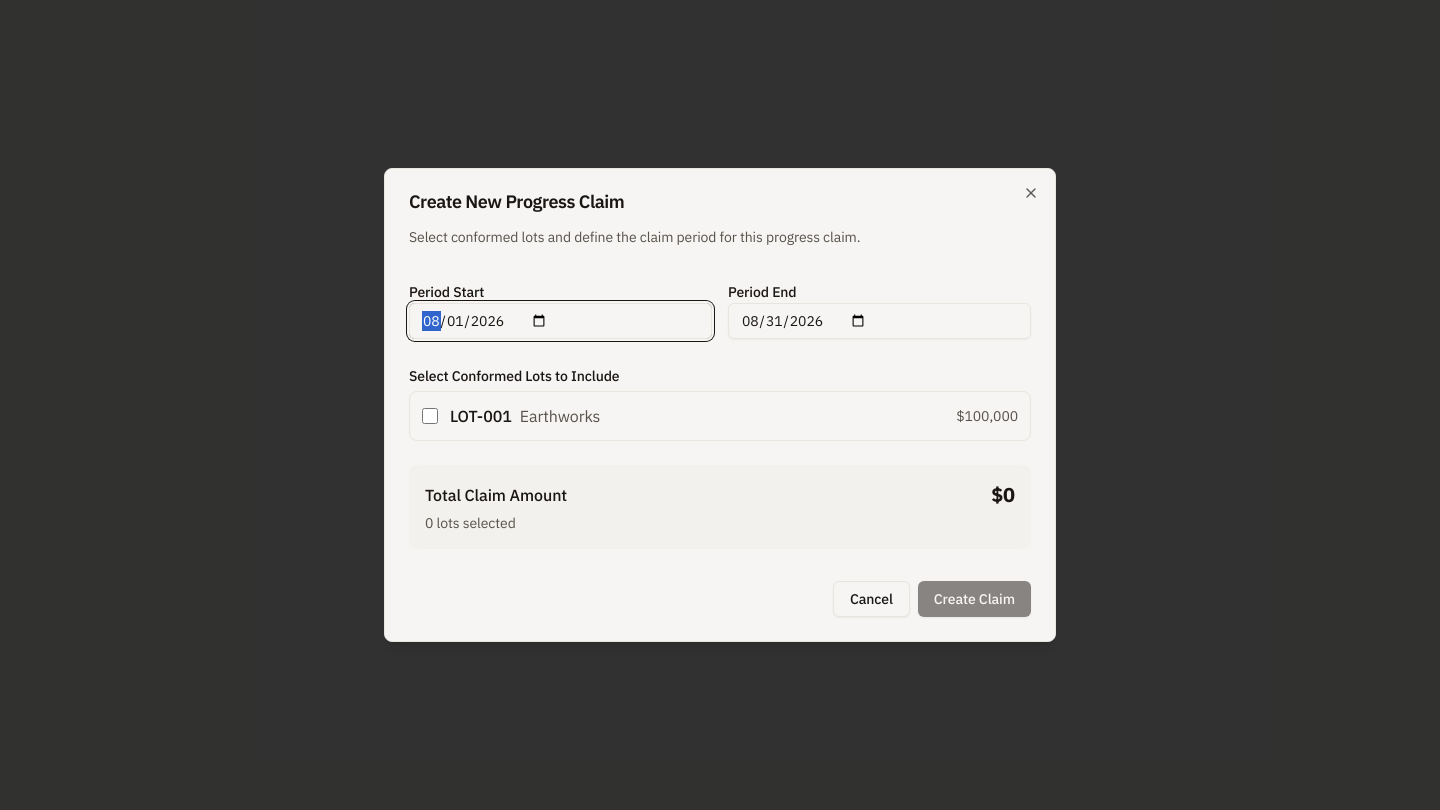
it: CreateClaimModal claim period validation › requires both period dates before a claim can be created
Expected: the text "LOT-001" is shown, [450, 406, 512, 426]
Click the checkbox named "Select LOT-001" at (430, 416), box [422, 408, 438, 424]
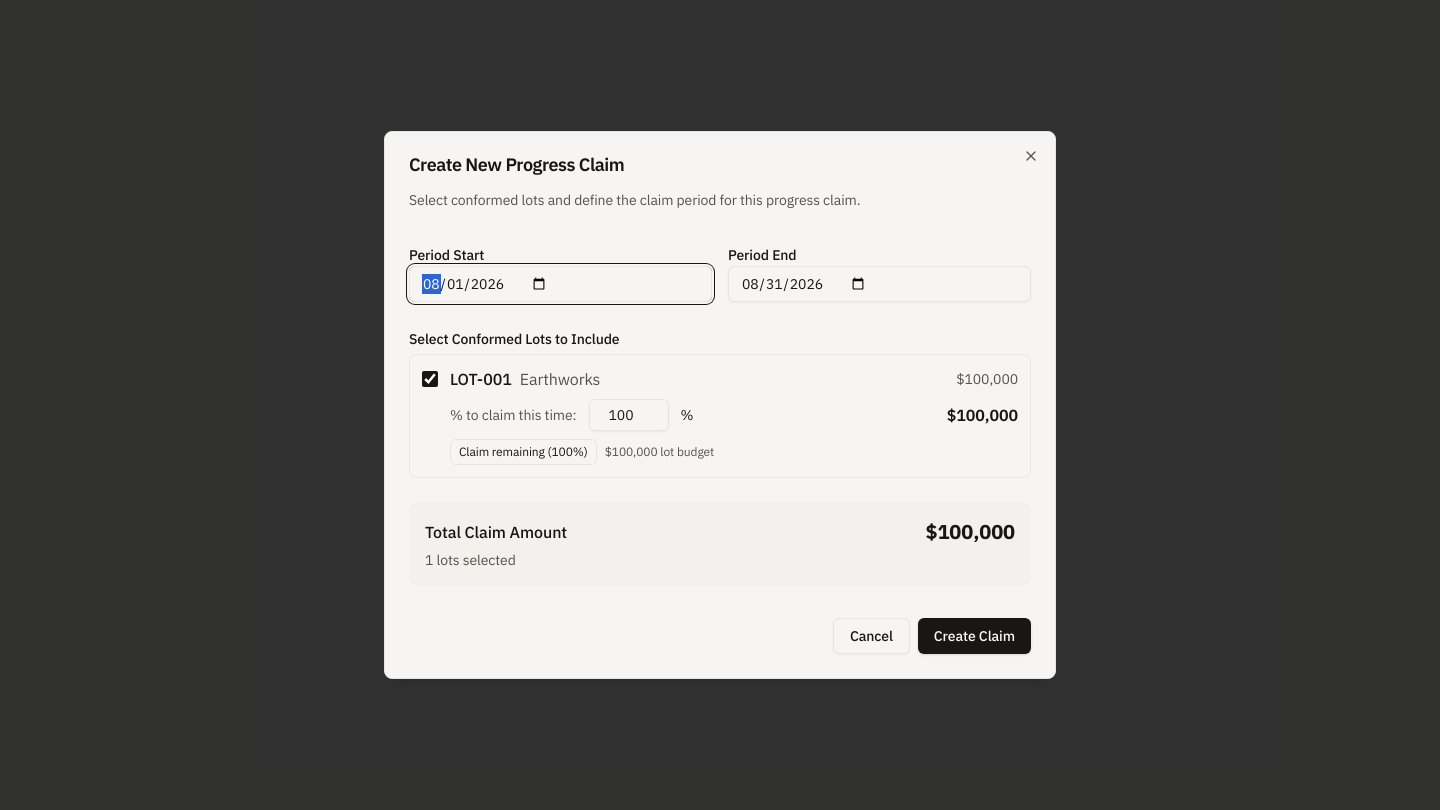
Clear the date field labelled "Period End" at (880, 284), box [728, 266, 1031, 302]
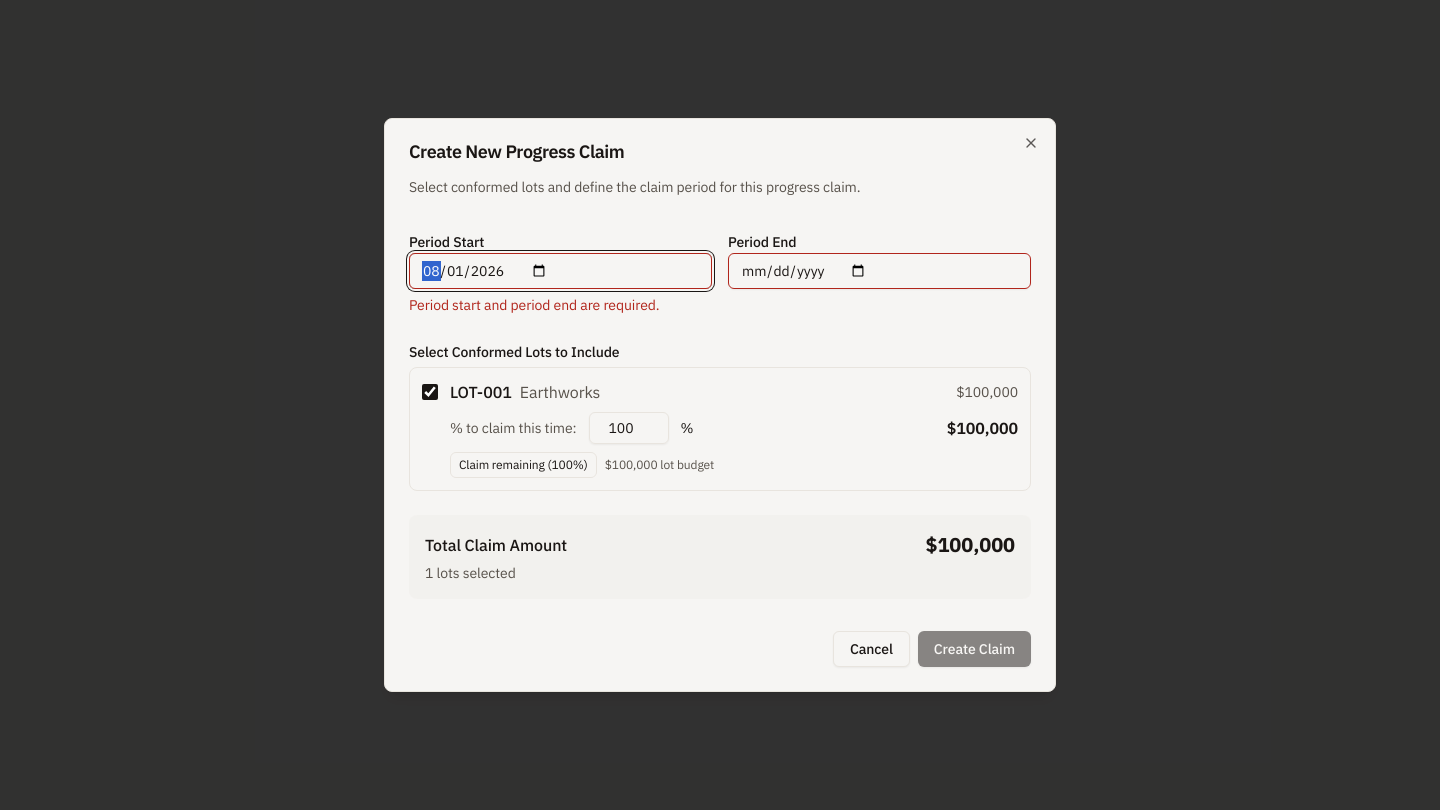
Expected: the message reads "Period start and period end are required.", [409, 296, 660, 314]
Expected: the button "Create Claim" is disabled, [918, 631, 1031, 667]
